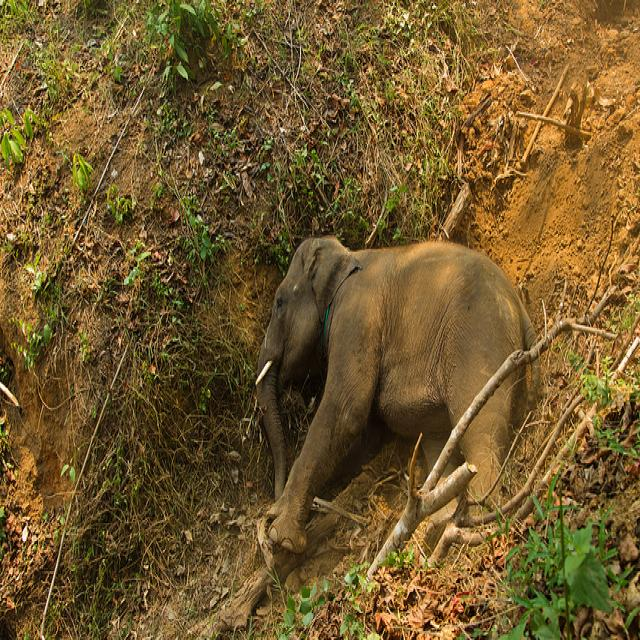Elephant: (254, 234, 541, 557)
